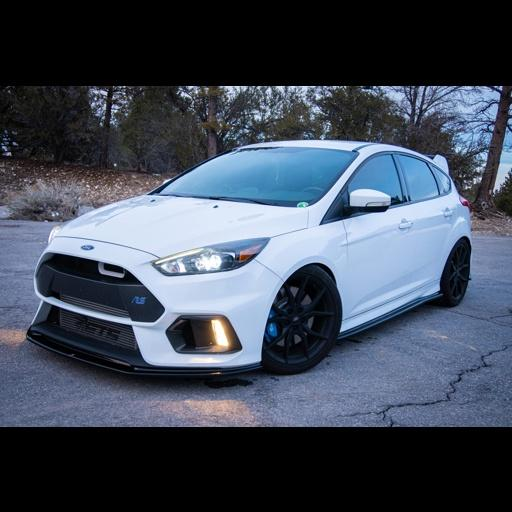hatchback: (26, 140, 469, 374)
